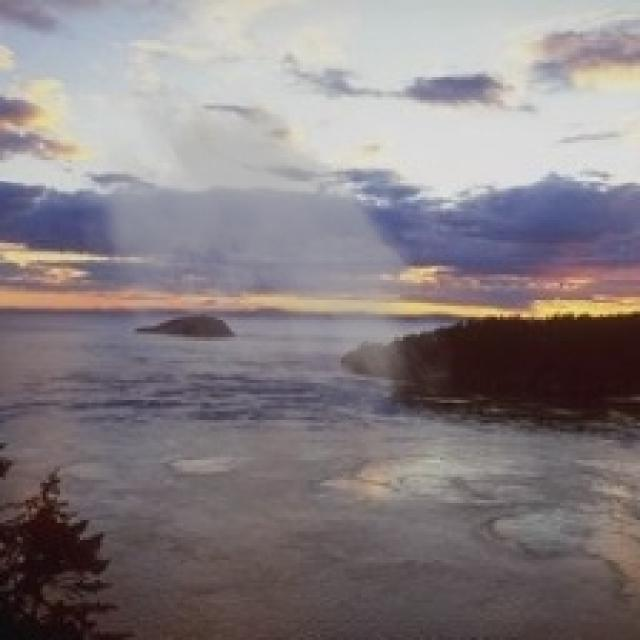smoke: (60, 68, 463, 486)
